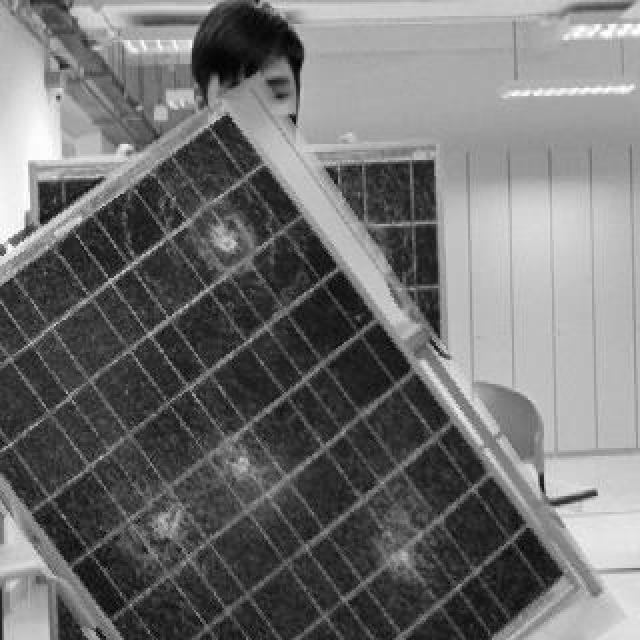Physical-damage: (99, 118, 328, 354), (371, 504, 445, 577), (125, 497, 195, 557), (211, 432, 264, 486)
